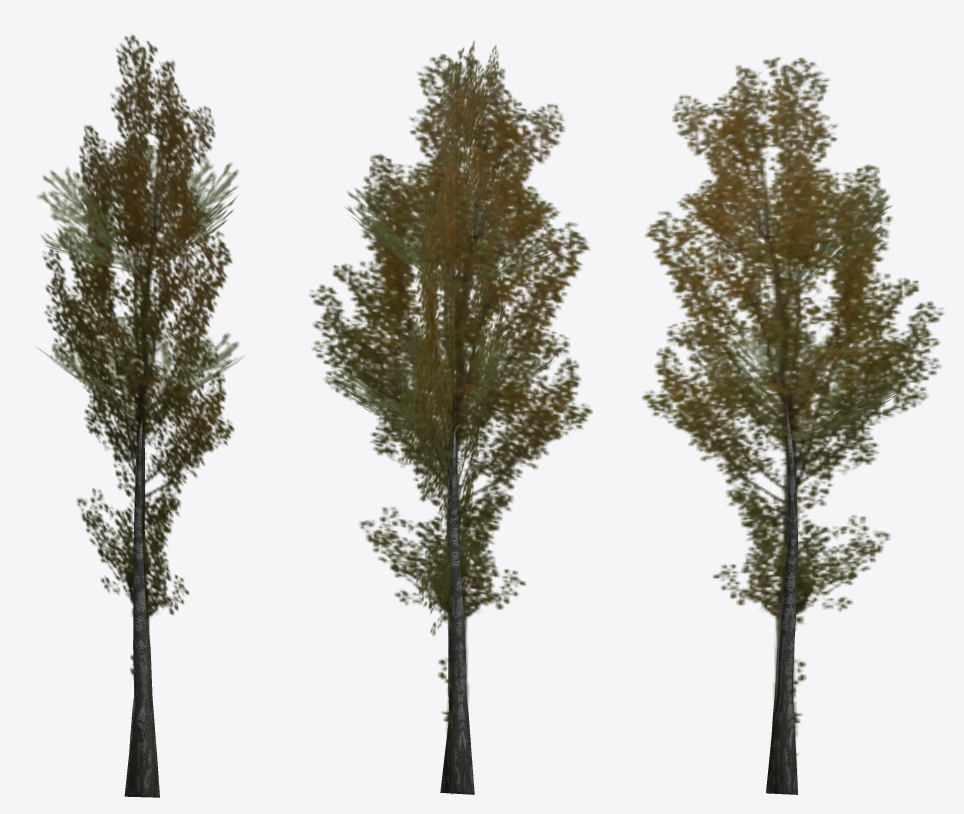
The model's file is Birch_124.gltf.
3 views of the same model, side by side, from view 1: azimuth 30°, elevation 25°; view 2: azimuth 150°, elevation 25°; view 3: azimuth 270°, elevation 25° (orthographic). The views are drawn at different scales.
Parts seen in each view (by area): view 1: Birch_124; view 2: Birch_124; view 3: Birch_124.
Boxes of the visible parts, bbox=[...] form: Birch_124: bbox=[37, 34, 243, 797]; Birch_124: bbox=[309, 40, 592, 794]; Birch_124: bbox=[642, 57, 943, 794].
Size of the model in its own units: 9.15 by 23.7 by 9.15.
Materials: 2 (2 with a texture image).
